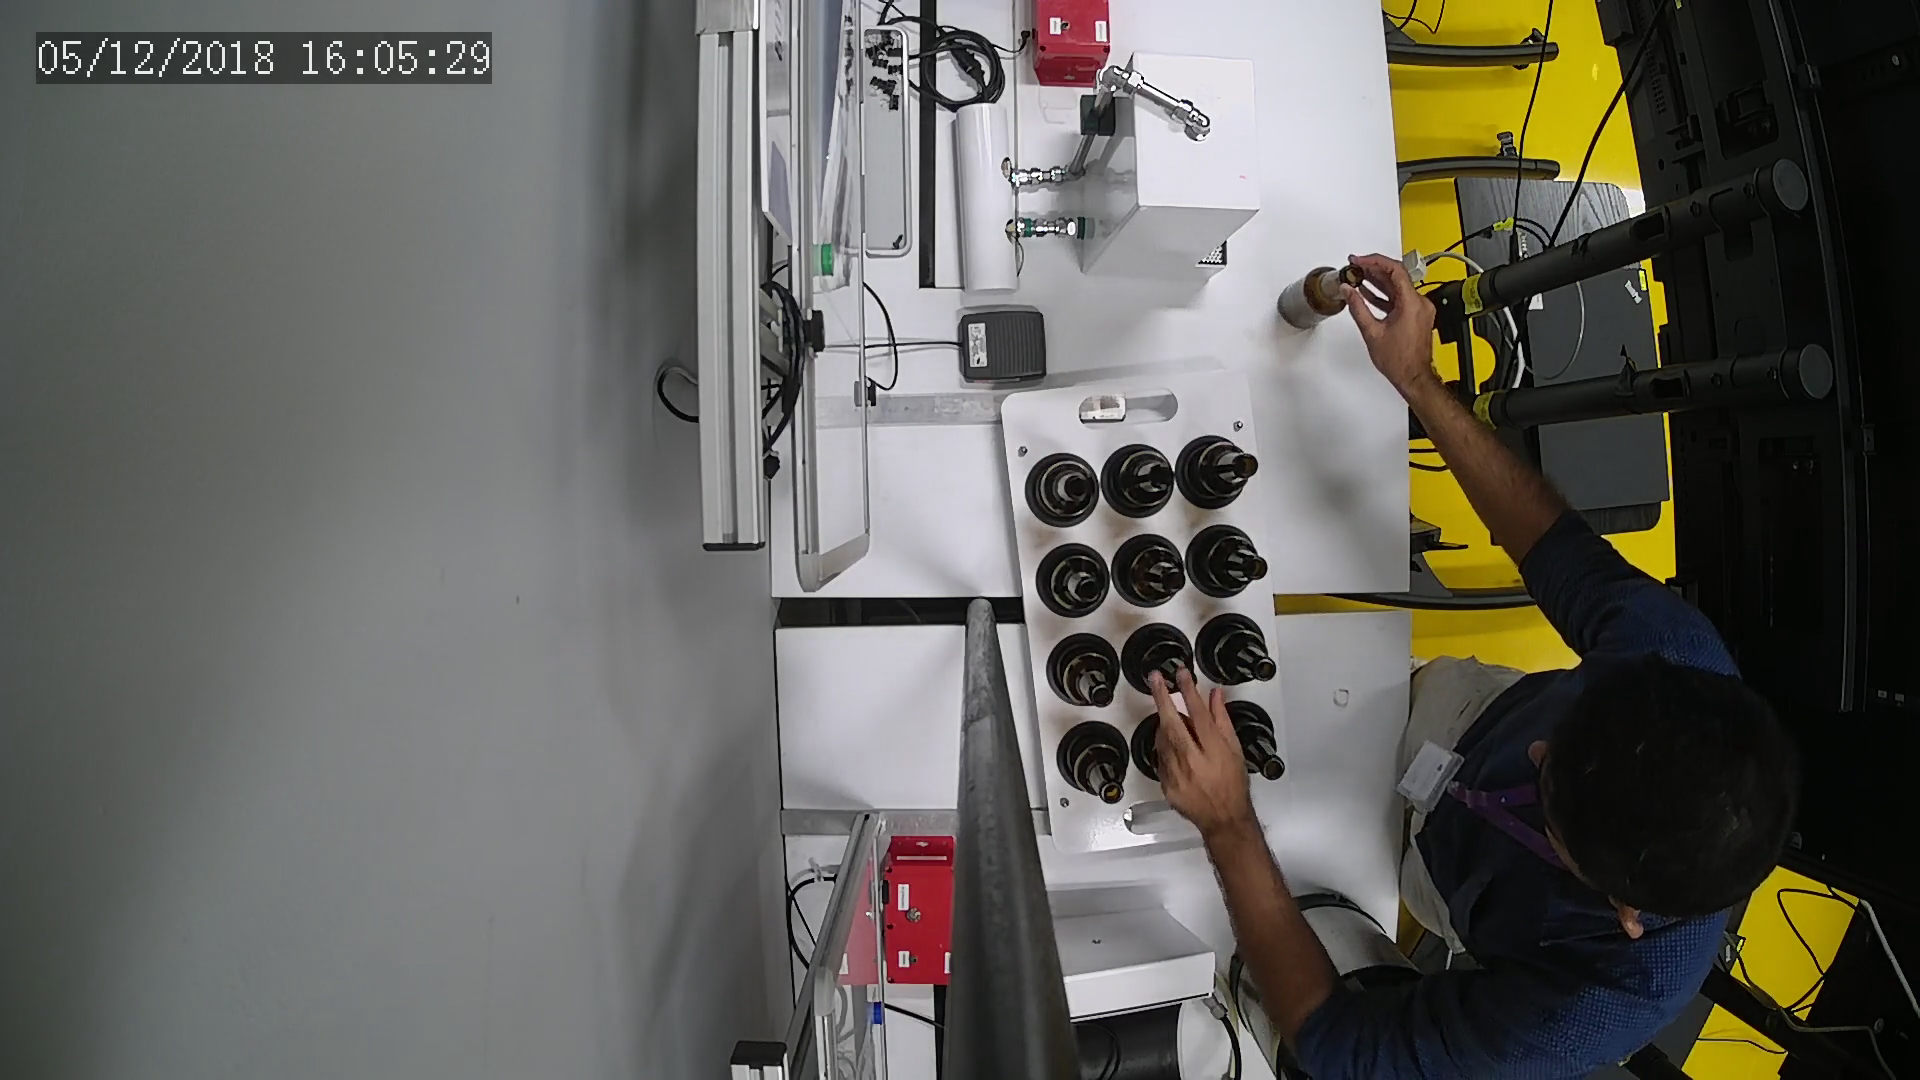filled_bottle: (1047, 717, 1129, 815), (1174, 436, 1269, 518), (1193, 605, 1279, 694), (1183, 522, 1276, 603), (1040, 628, 1124, 716), (1031, 543, 1116, 626), (1112, 530, 1189, 618), (1025, 448, 1098, 535), (1126, 628, 1201, 707), (1228, 698, 1288, 790), (1102, 444, 1178, 518)
trolley: (1004, 361, 1304, 865)
unfilled_bottle: (1279, 265, 1356, 332)
